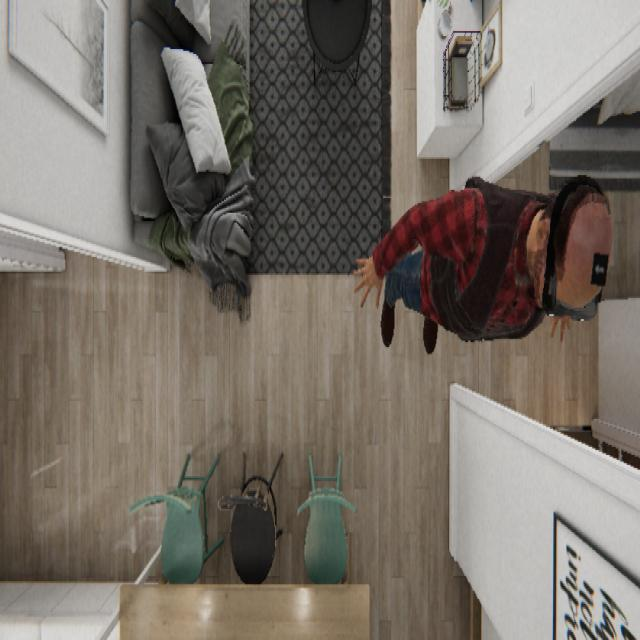Human: (352, 170, 613, 354)
UnityLogo: (542, 172, 614, 322), (590, 247, 608, 288)
